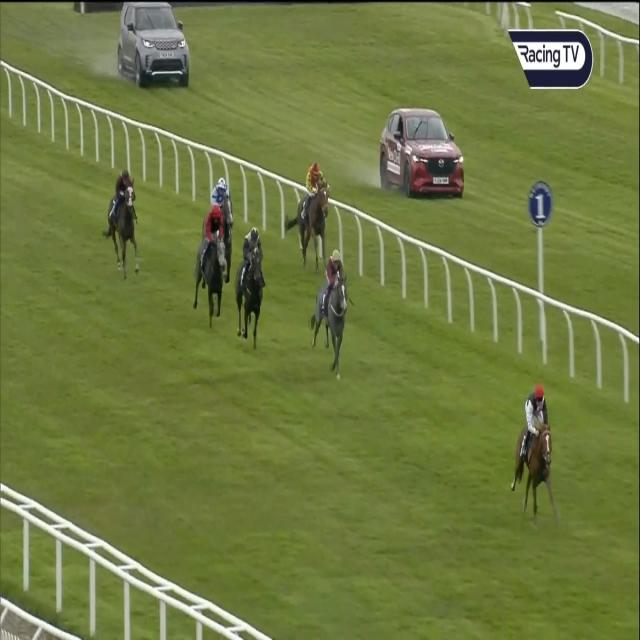horses-racing: (516, 387, 558, 524), (311, 242, 352, 378), (107, 169, 145, 273), (236, 224, 265, 346), (294, 163, 332, 255), (208, 174, 240, 280), (199, 207, 227, 327)
